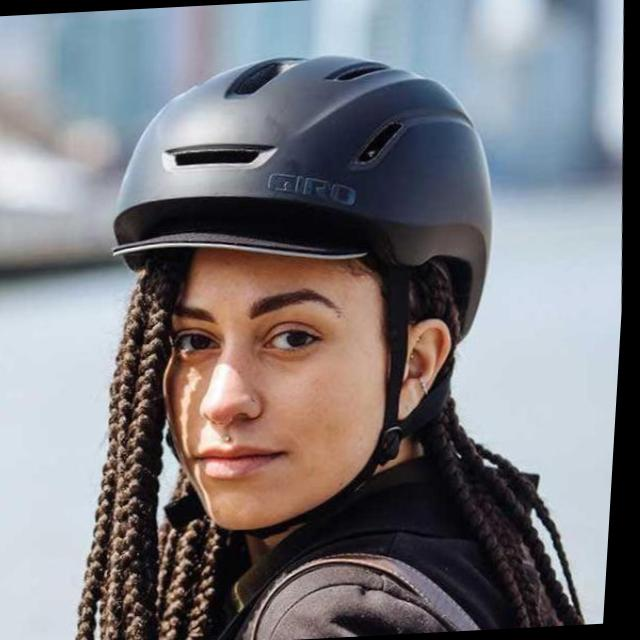helmet: (88, 40, 519, 548)
